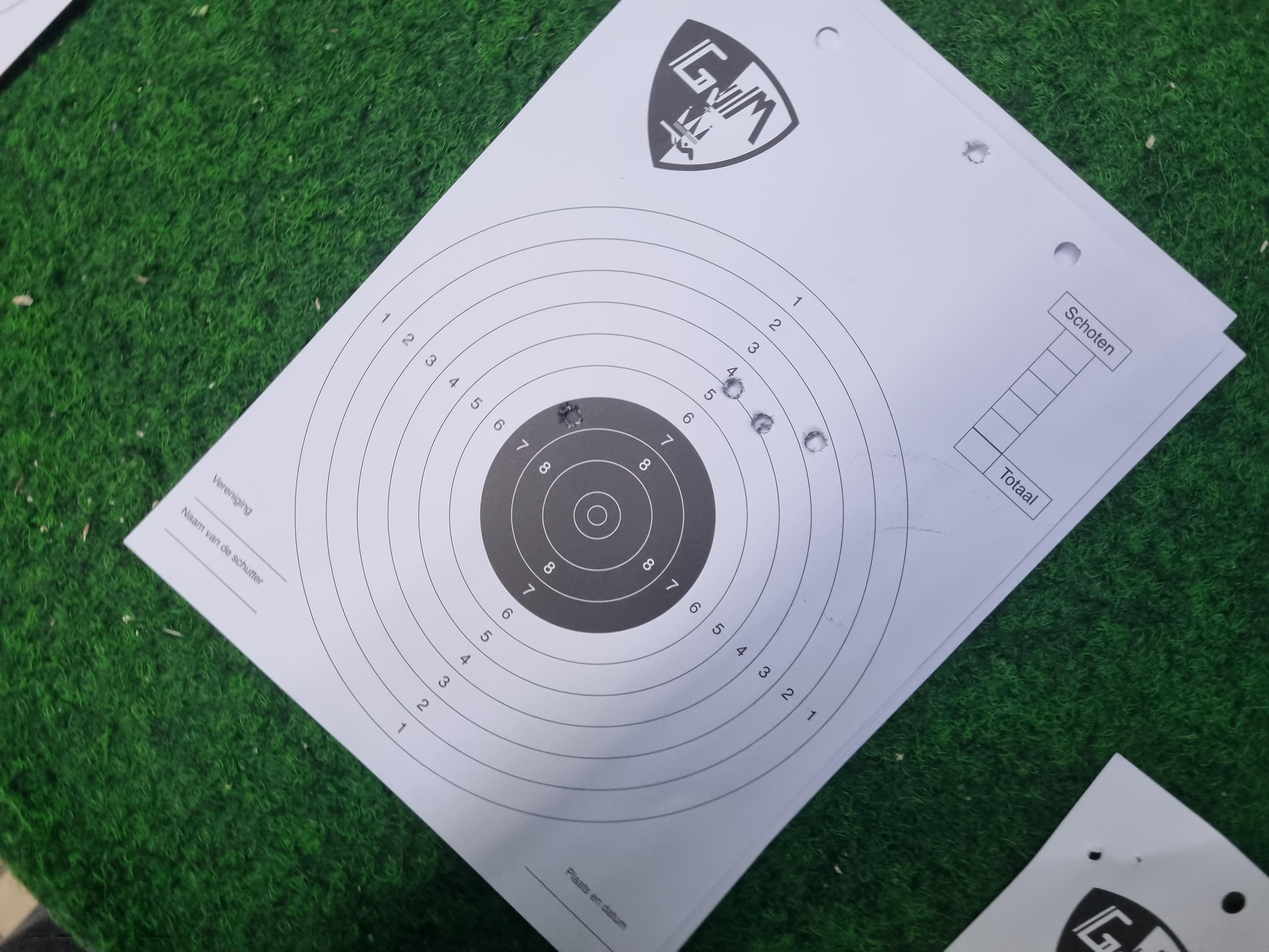hole: (1050, 722, 1082, 743), (698, 418, 732, 437), (665, 601, 697, 621), (689, 563, 719, 581), (737, 541, 765, 559)
